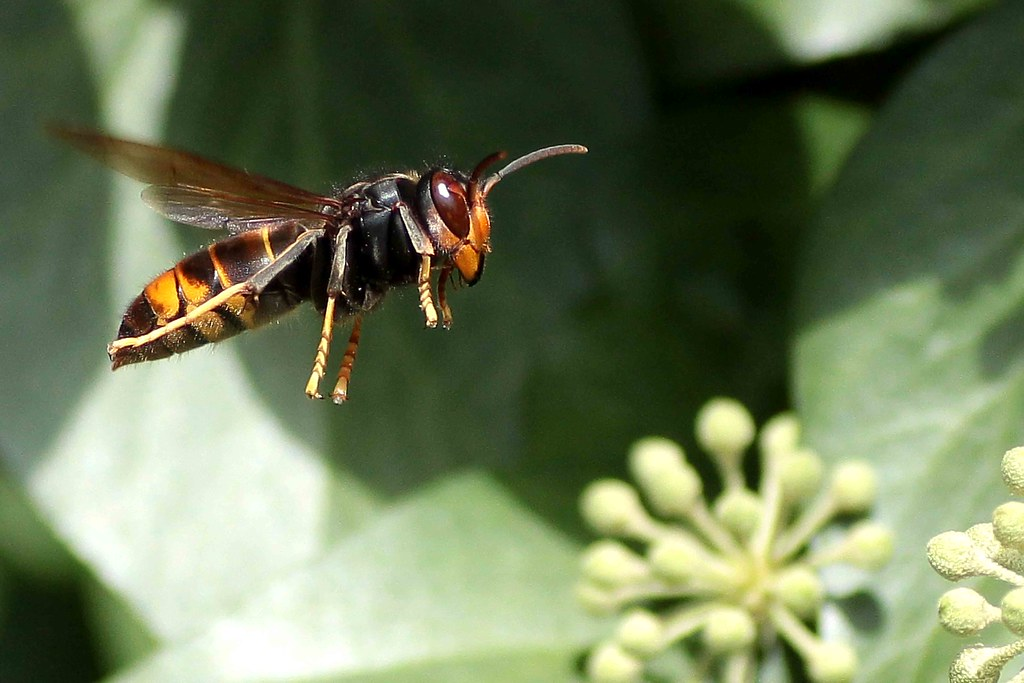hornet: (79, 128, 539, 413)
